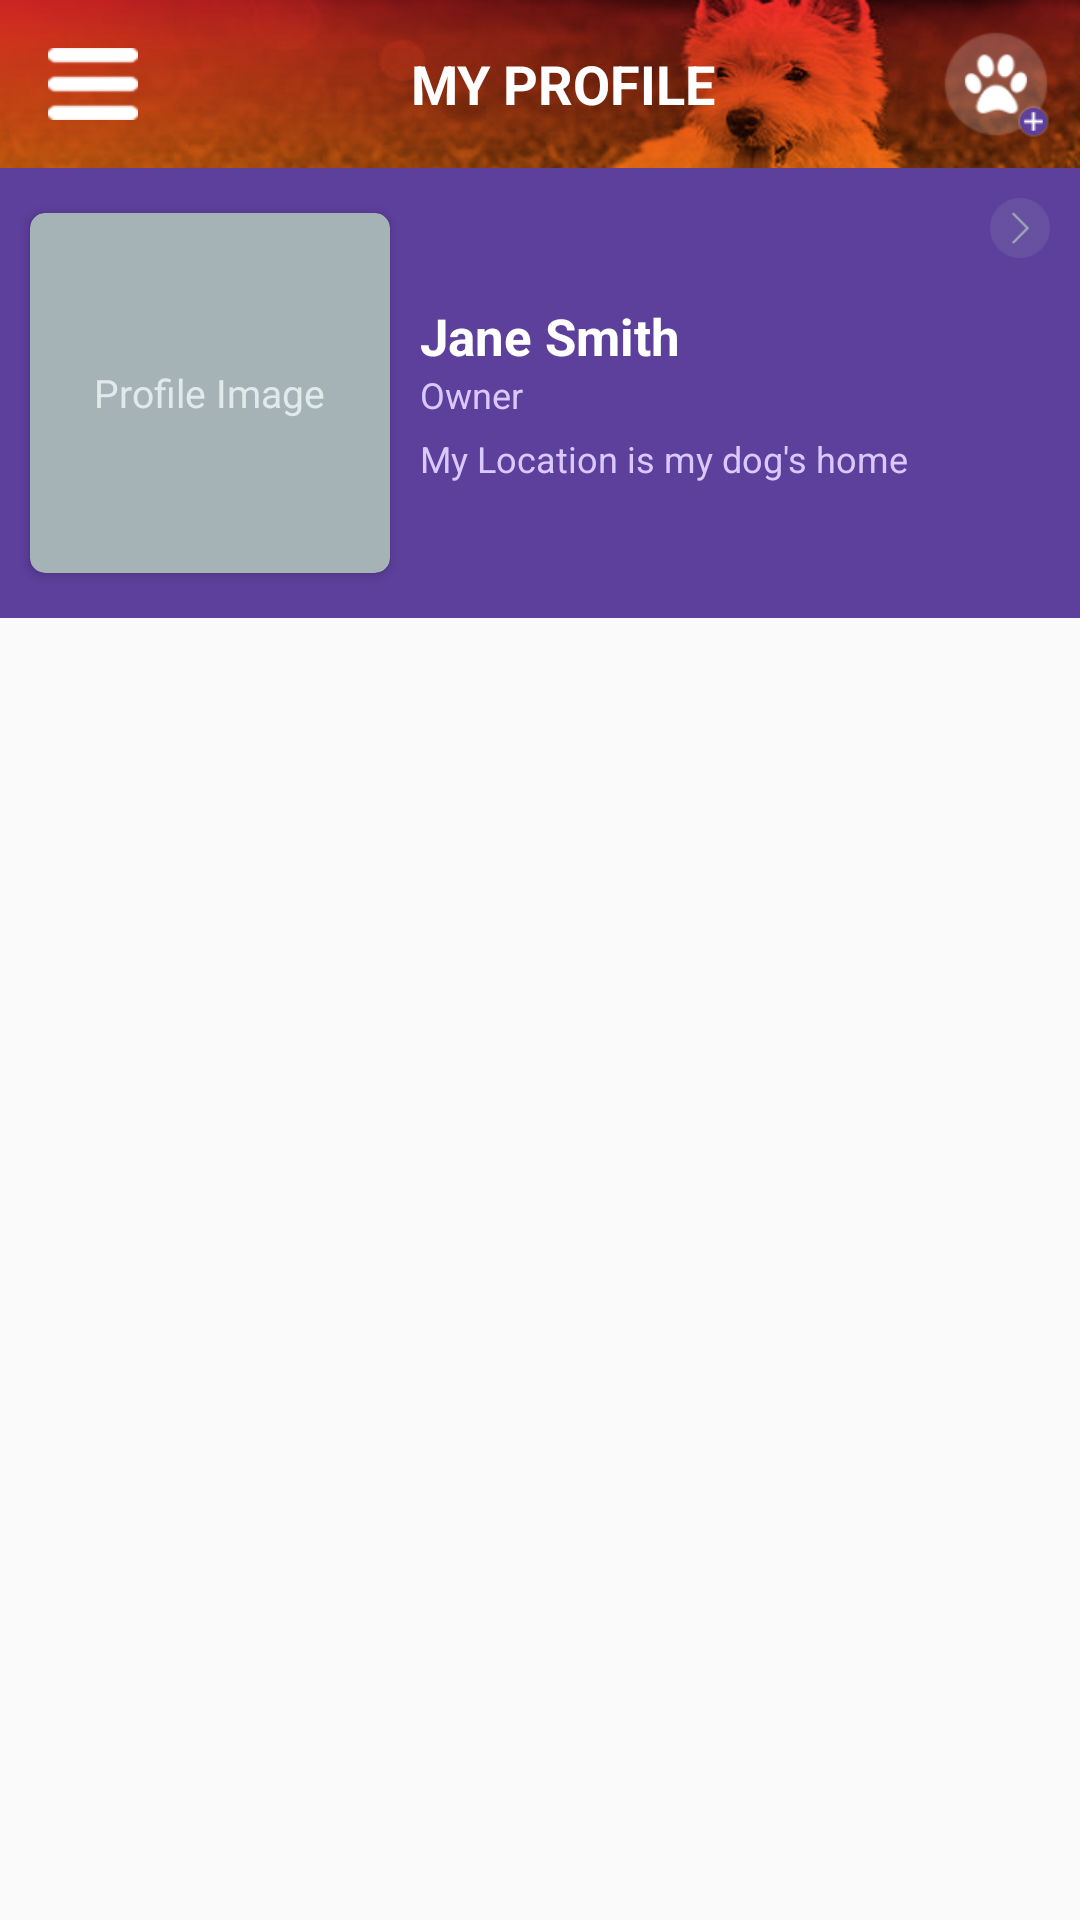

Icon click points for this 1080x1920 phone screenshot, format (x=x, y=y):
add dog: (x=997, y=85)
arrow profile user: (x=1020, y=228)
hamburger: (x=93, y=84)
